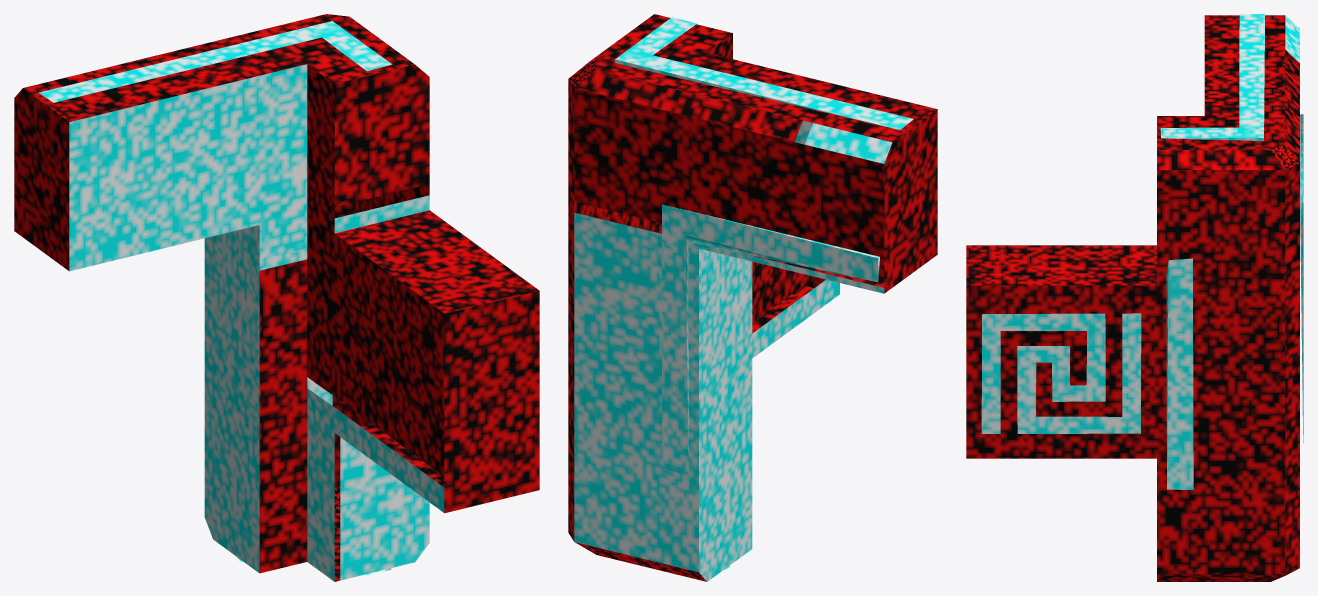
Rendered from SM_MonadBless_Separate_01_GDH.fbx.
3 views of the same model, side by side, from view 1: azimuth 30°, elevation 25°; view 2: azimuth 150°, elevation 25°; view 3: azimuth 270°, elevation 25° (orthographic). The views are drawn at different scales.
Visible parts, largest first — view 1: SM_MonadBless_Separate_01_GDH; view 2: SM_MonadBless_Separate_01_GDH; view 3: SM_MonadBless_Separate_01_GDH.
Part boxes in pixels (x1,y1,x2,y2): SM_MonadBless_Separate_01_GDH: (14,14,539,581); SM_MonadBless_Separate_01_GDH: (568,14,937,581); SM_MonadBless_Separate_01_GDH: (966,14,1303,581).
Size of the model in its own units: 14.31 by 20.52 by 14.29.
